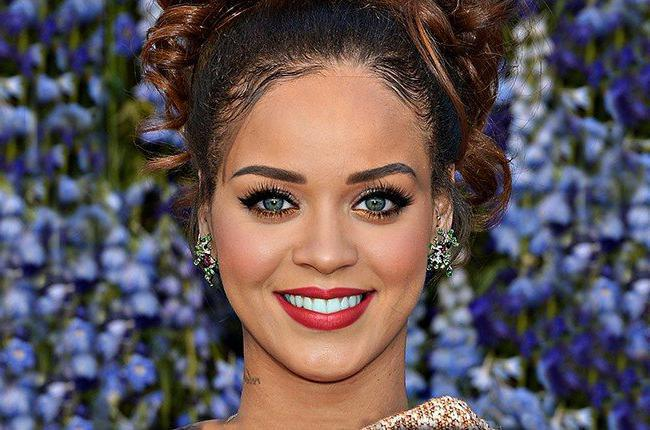Sober: (224, 94, 424, 348)
